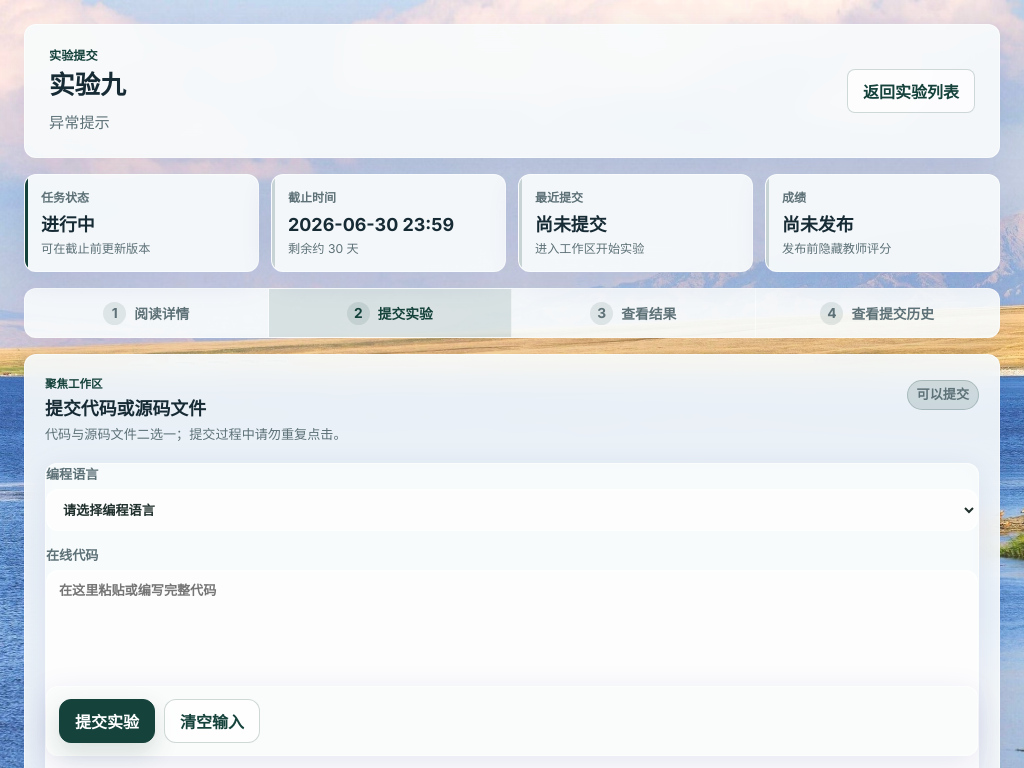
Scenario: LabStudentView › surfaces backend submission errors on the page
Step 1. Select "Python" in the dropdown named "language" → (512, 510), box [46, 489, 978, 531]
(page scrolled)
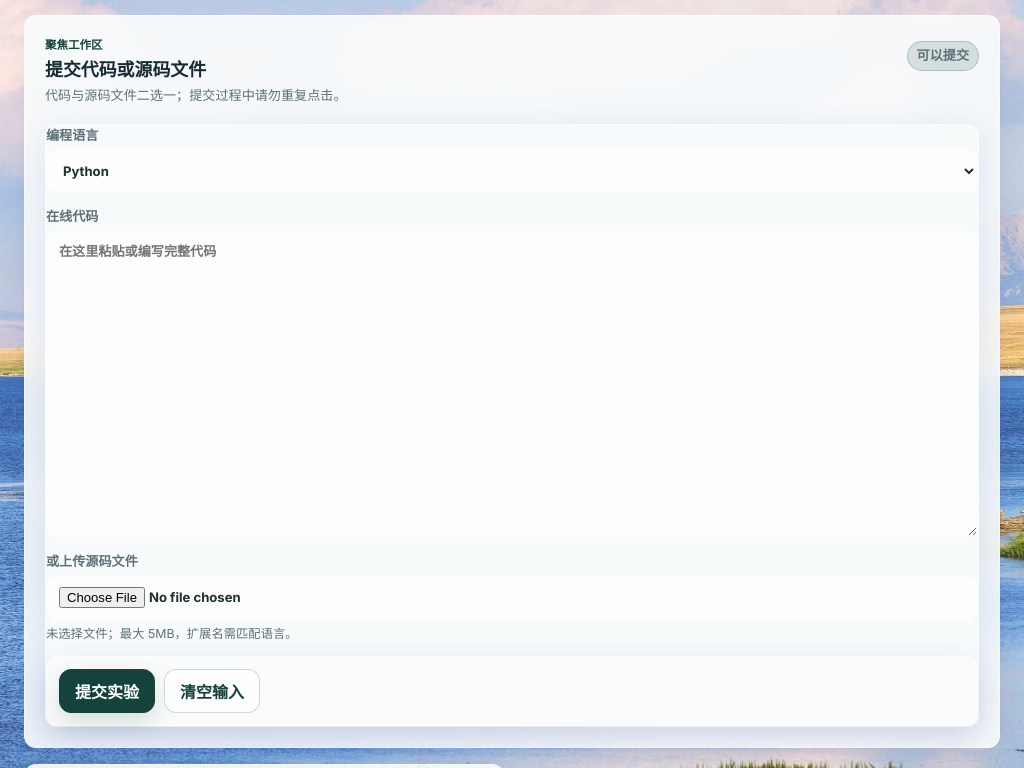
Step 2. Type "print('late')" into the text box named "code" → (512, 384), box [46, 231, 978, 538]
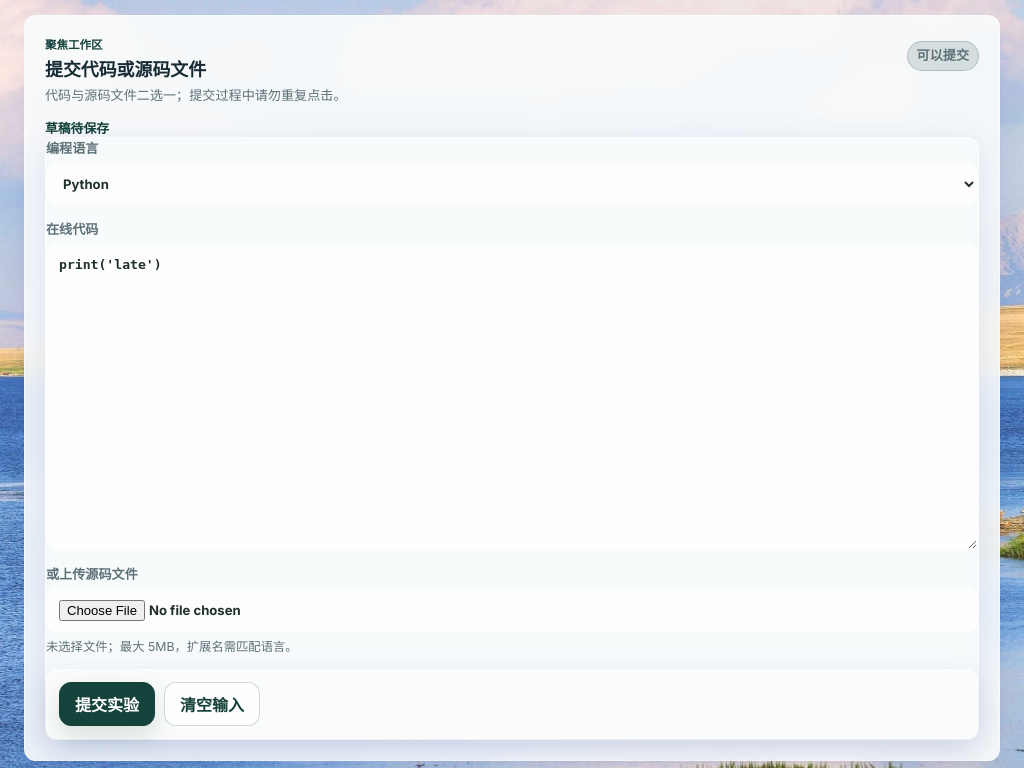
Step 3. Submit the form
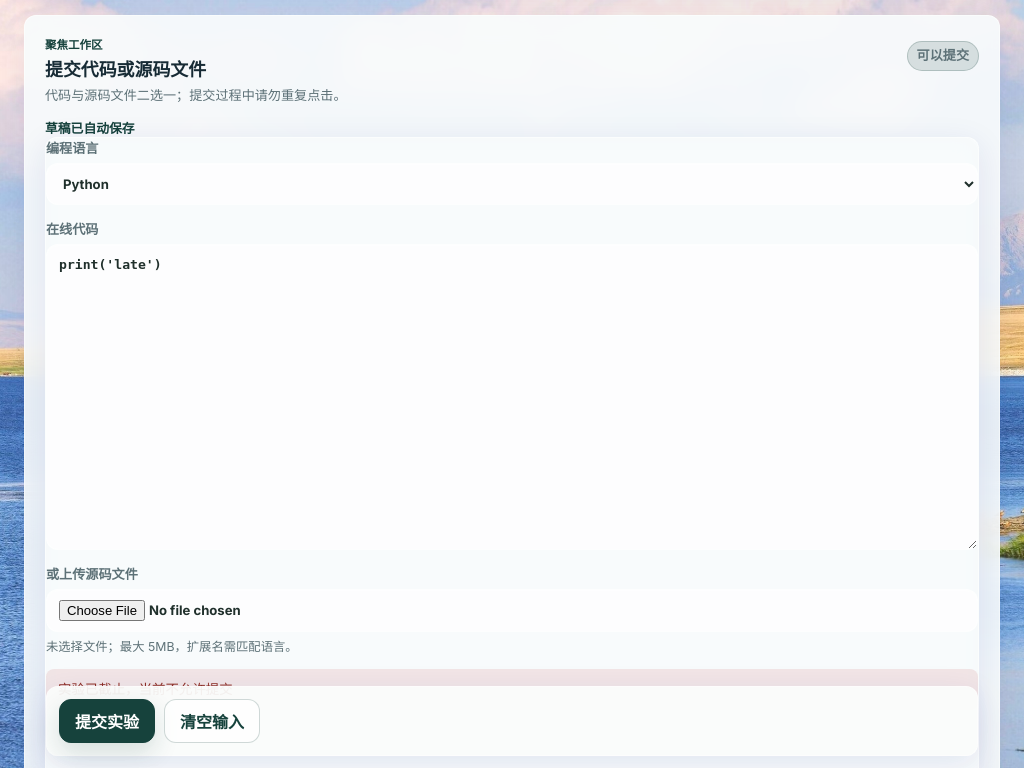
Now the text "实验已截止，当前不允许提交" is shown, box [46, 670, 978, 710]
